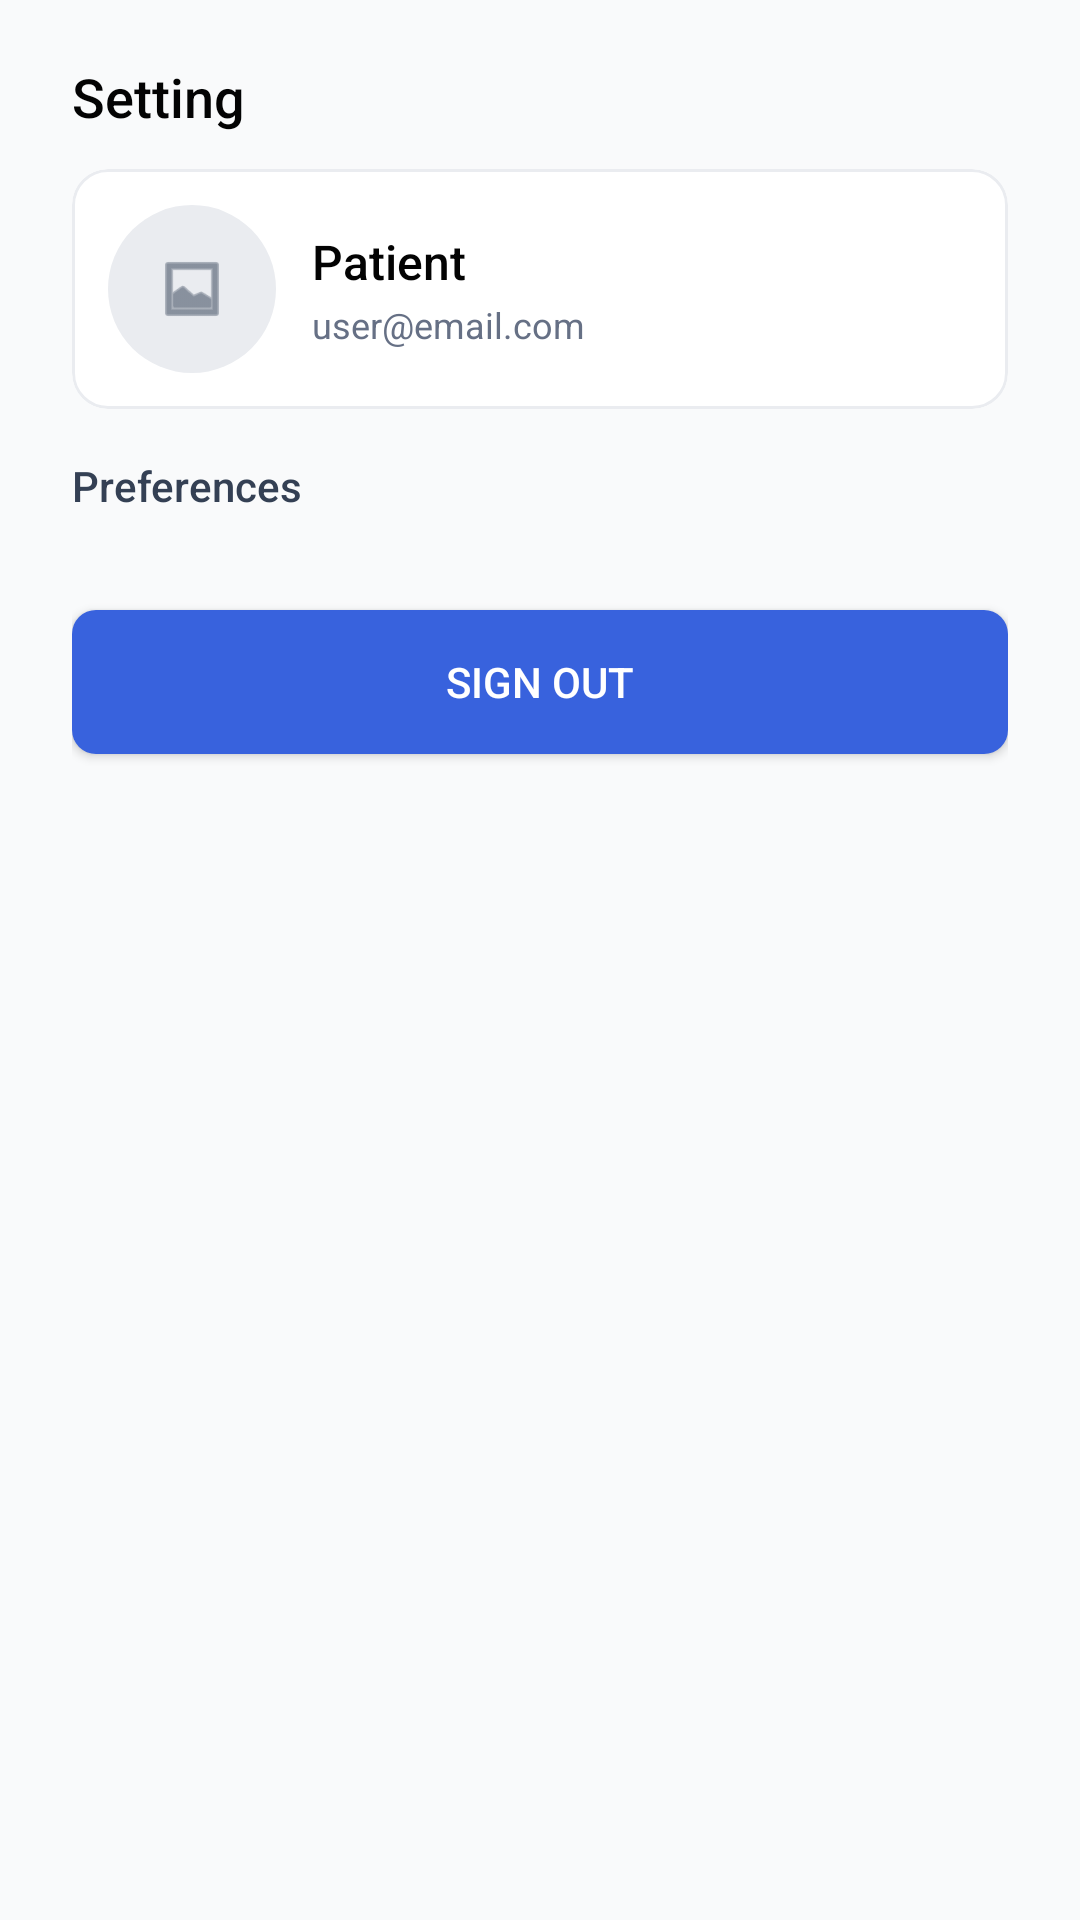

Screen size 1080px×1920px. Icon name, then its center in pixels as (x=x, y=y):
gallery: (x=192, y=289)
